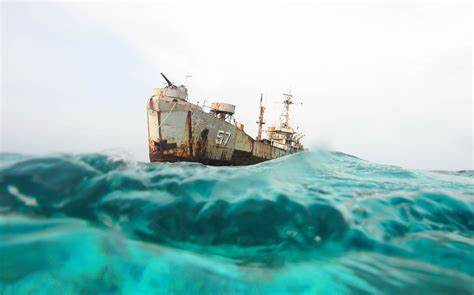rust: (186, 116, 210, 162), (149, 139, 184, 164), (230, 149, 258, 163)
